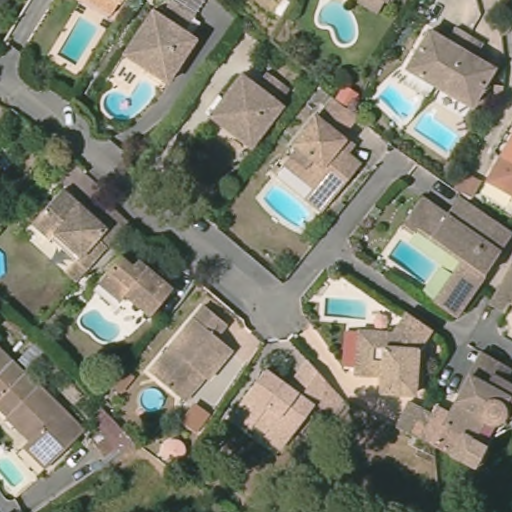pool: (383, 237, 442, 287), (259, 183, 318, 232), (102, 75, 159, 123), (53, 15, 106, 66), (310, 1, 364, 49), (414, 114, 466, 157), (73, 306, 127, 346), (316, 293, 377, 323), (376, 82, 421, 122), (1, 450, 31, 492), (137, 386, 170, 416)
